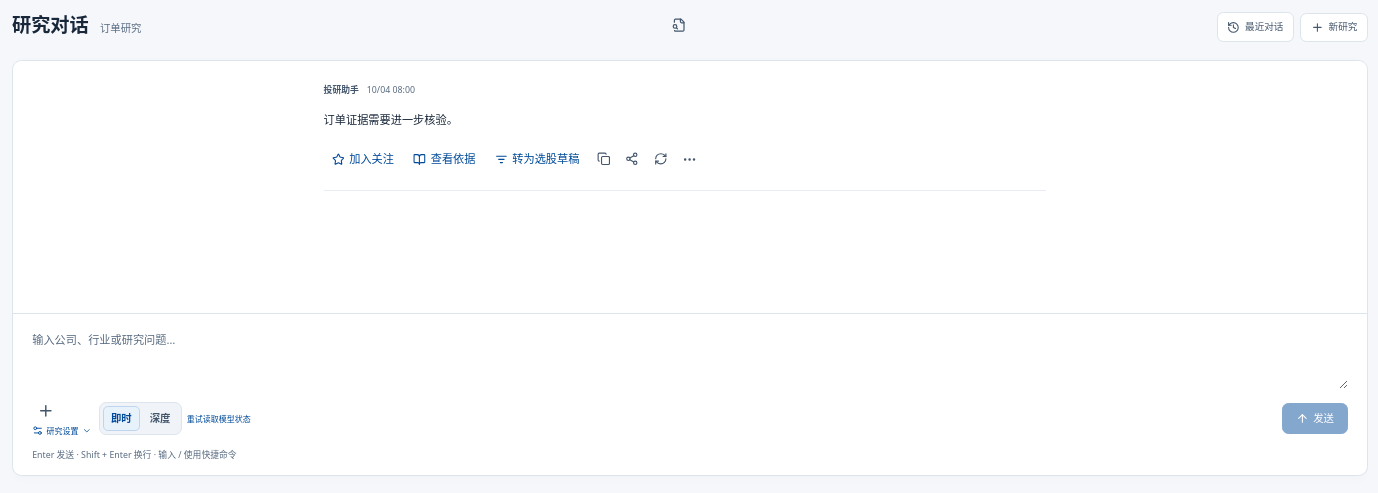
keeps a research conversation with a legacy task away from screening data and execution
The image size is (1378, 493).
expect the text "订单证据需要进一步核验。" is shown: met, box x1=324 y1=112 x2=458 y2=127
expect the button "研究设置" is shown: met, box x1=32 y1=424 x2=91 y2=438
Click the button named "更多回答操作": (690, 159) x1=677 y1=146 x2=703 y2=172
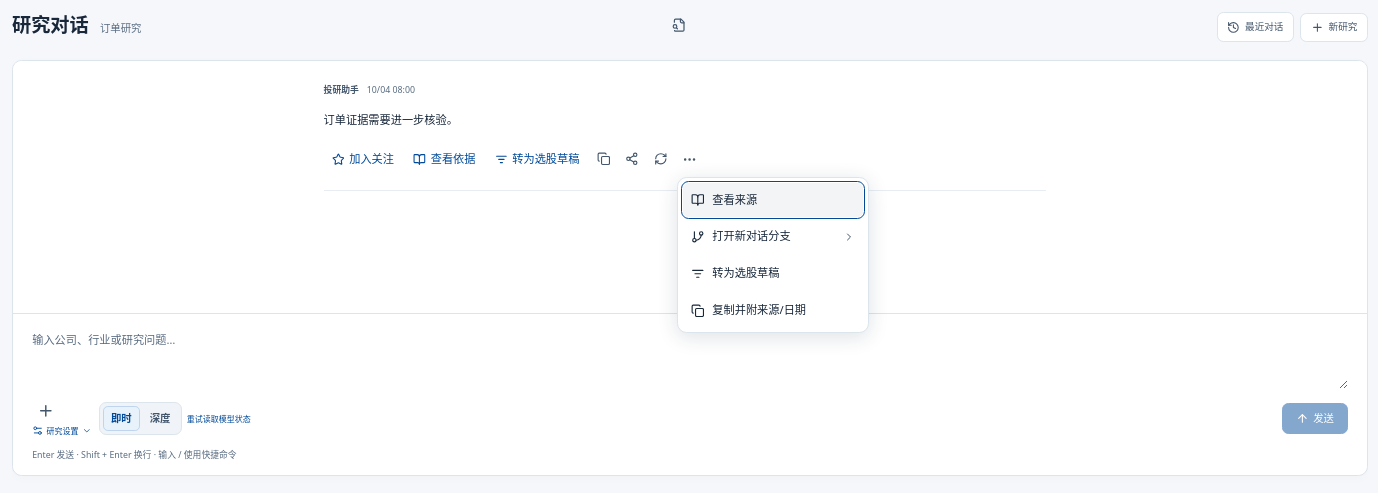
expect the menu item "转为选股草稿" is shown: met, box x1=683 y1=256 x2=863 y2=291
